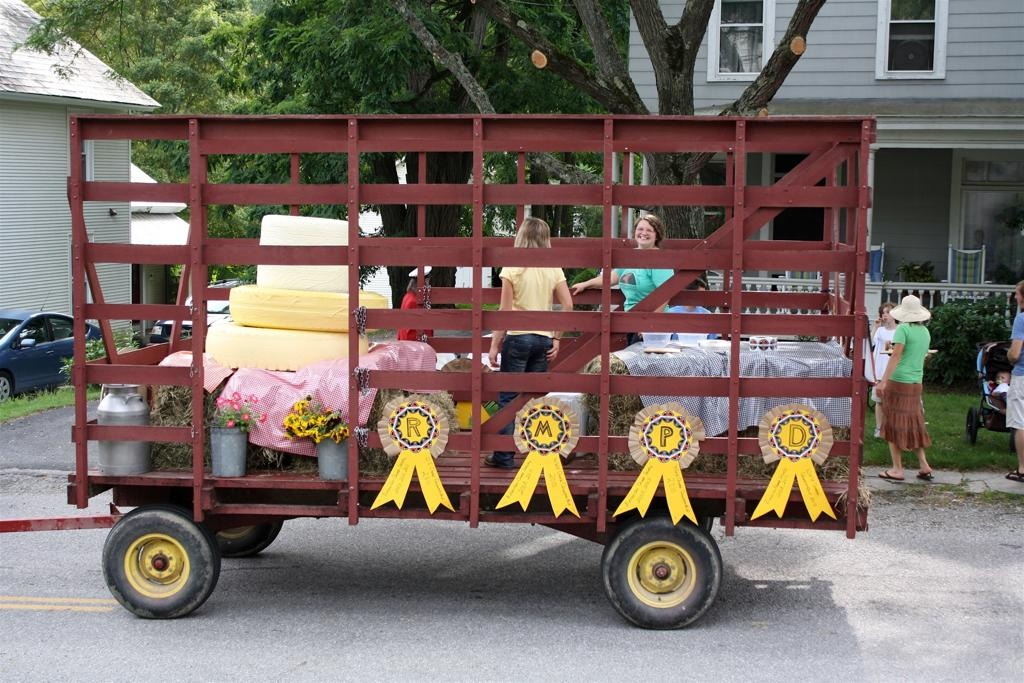human_face: (634, 220, 654, 245), (1012, 286, 1024, 308), (880, 306, 894, 322), (996, 371, 1010, 384), (422, 276, 432, 290)
